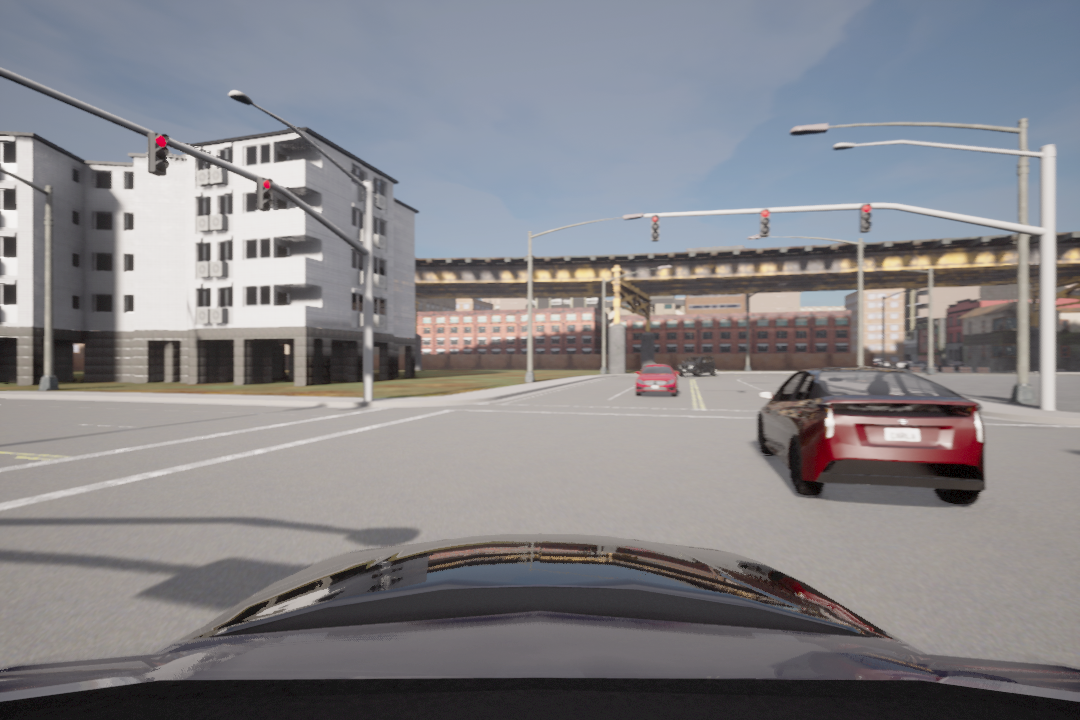TrafficLight: (147, 131, 169, 180), (854, 201, 877, 234), (255, 174, 273, 214), (650, 214, 664, 244), (757, 206, 769, 237)
